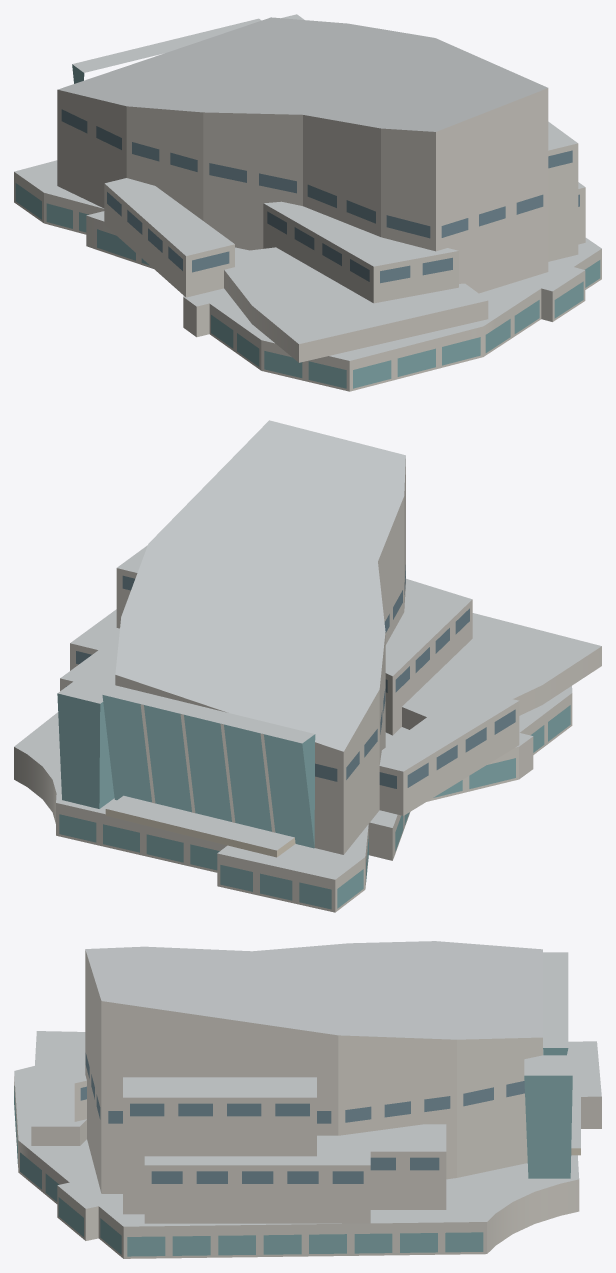
The model's file is mia-knight-concert-hall.glb.
3 renders of one model, top to bottom at view 1: azimuth 30°, elevation 25°; view 2: azimuth 150°, elevation 25°; view 3: azimuth 270°, elevation 25°, orthographic. The views are drawn at different scales.
Parts seen in each view (by area): view 1: Knight Concert Hall; view 2: Knight Concert Hall; view 3: Knight Concert Hall.
Part boxes in pixels (x1,y1,x2,y2): Knight Concert Hall: (14, 14, 601, 391); Knight Concert Hall: (14, 420, 601, 912); Knight Concert Hall: (14, 941, 601, 1258).
Bounding box in the file's own units: 81.73 × 46.11 × 109.
